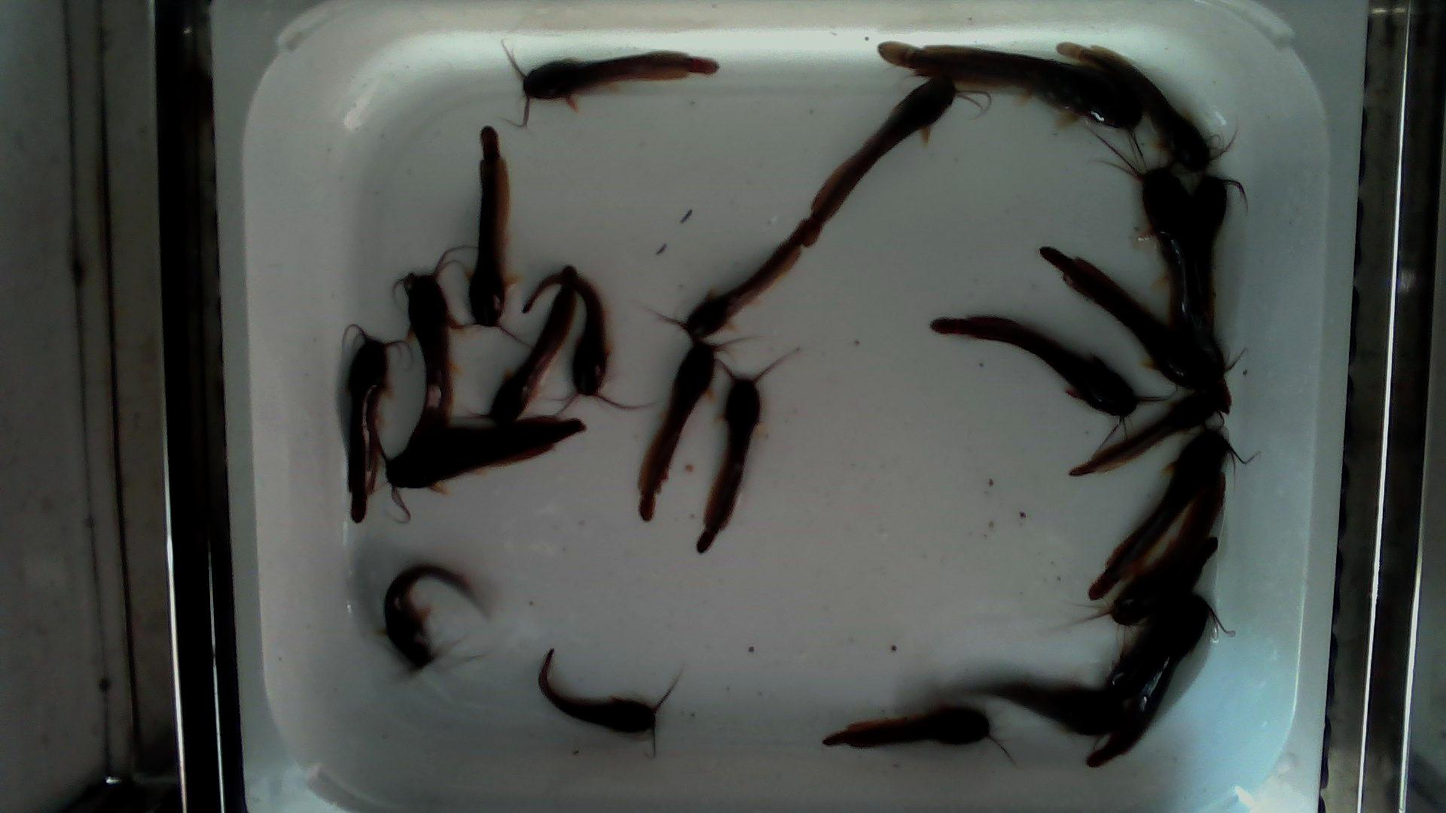lele: (931, 315, 1167, 456), (802, 73, 988, 247), (1097, 137, 1223, 369), (1041, 246, 1224, 387), (1090, 430, 1229, 598), (879, 42, 1146, 128), (1086, 593, 1211, 768), (1055, 43, 1213, 170), (658, 218, 813, 342), (1111, 534, 1219, 702), (1111, 473, 1226, 627), (505, 44, 718, 126), (697, 360, 783, 552), (523, 274, 637, 413), (639, 335, 715, 520), (491, 267, 578, 427), (1071, 383, 1222, 475), (387, 422, 582, 487), (346, 326, 405, 522), (538, 649, 660, 732), (405, 257, 453, 466), (974, 680, 1126, 739), (384, 565, 468, 668), (1193, 174, 1244, 333), (469, 127, 506, 326), (823, 705, 989, 748), (439, 416, 558, 451)
